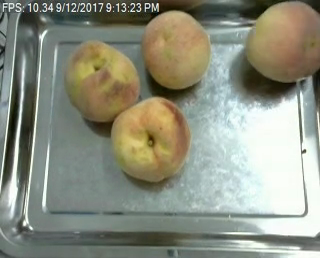Peach: (110, 97, 190, 182), (63, 37, 139, 124), (245, 1, 319, 83), (141, 8, 211, 88)
